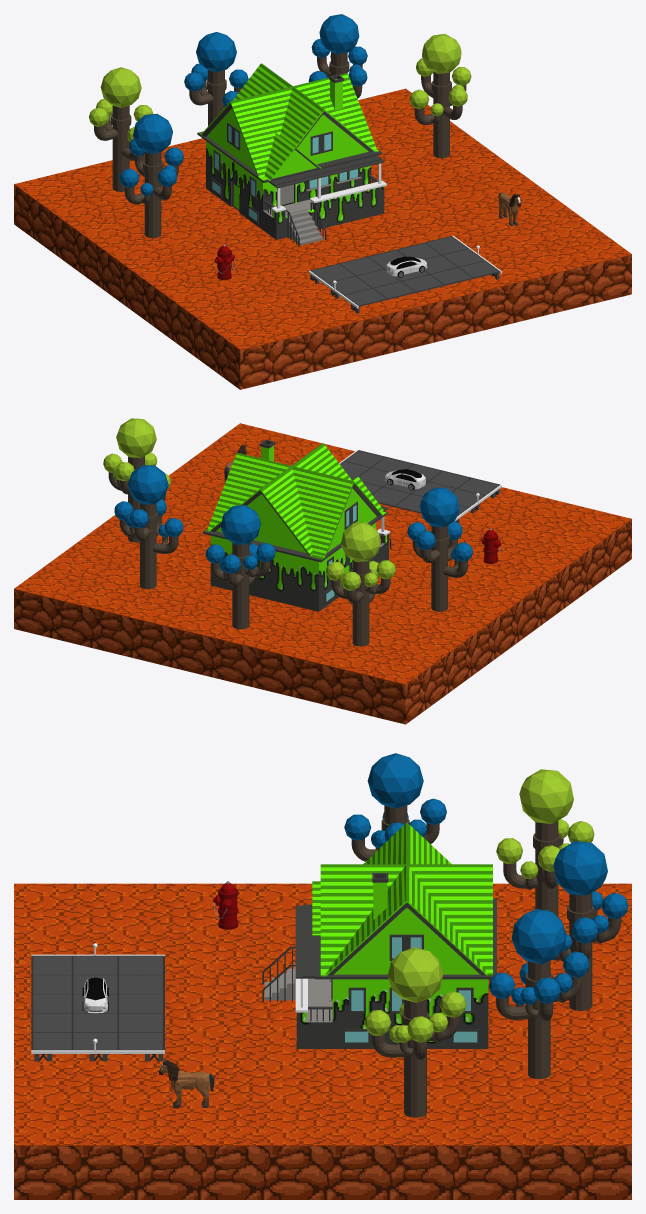
3 views of the same model, one above another, from view 1: azimuth 30°, elevation 25°; view 2: azimuth 150°, elevation 25°; view 3: azimuth 270°, elevation 25° (orthographic). The views are drawn at different scales.
Parts seen in each view (by area): view 1: Cube.001, Cube.754, VEHICLES_TESLA, ANIMAL_CABALLO, OBJRANDOM_FIRE_HYDRANT; view 2: Cube.001, Cube.754, VEHICLES_TESLA, OBJRANDOM_FIRE_HYDRANT; view 3: Cube.001, Cube.754, ANIMAL_CABALLO, OBJRANDOM_FIRE_HYDRANT, VEHICLES_TESLA.
Boxes of the visible parts, x1,y1,x2,y2 form: Cube.001: (14,14,631,389); Cube.754: (197,63,386,246); VEHICLES_TESLA: (386,256,427,277); ANIMAL_CABALLO: (498,192,521,226); OBJRANDOM_FIRE_HYDRANT: (214,244,235,279); Cube.001: (14,418,631,724); Cube.754: (203,439,391,611); VEHICLES_TESLA: (385,469,425,490); OBJRANDOM_FIRE_HYDRANT: (481,528,501,563); Cube.001: (14,753,631,1199); Cube.754: (262,823,496,1048); ANIMAL_CABALLO: (159,1059,214,1108); OBJRANDOM_FIRE_HYDRANT: (213,881,238,929); VEHICLES_TESLA: (82,977,108,1013).
Size of the model in its own units: 4000 by 1664 by 4000.
Materials: 37 (5 with a texture image).
